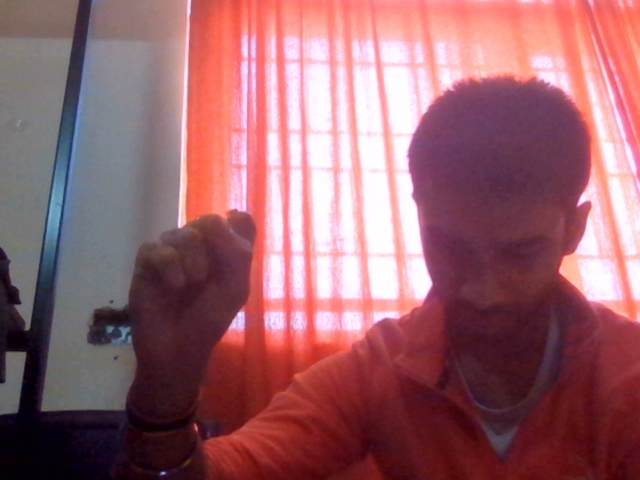S: (116, 196, 296, 396)
